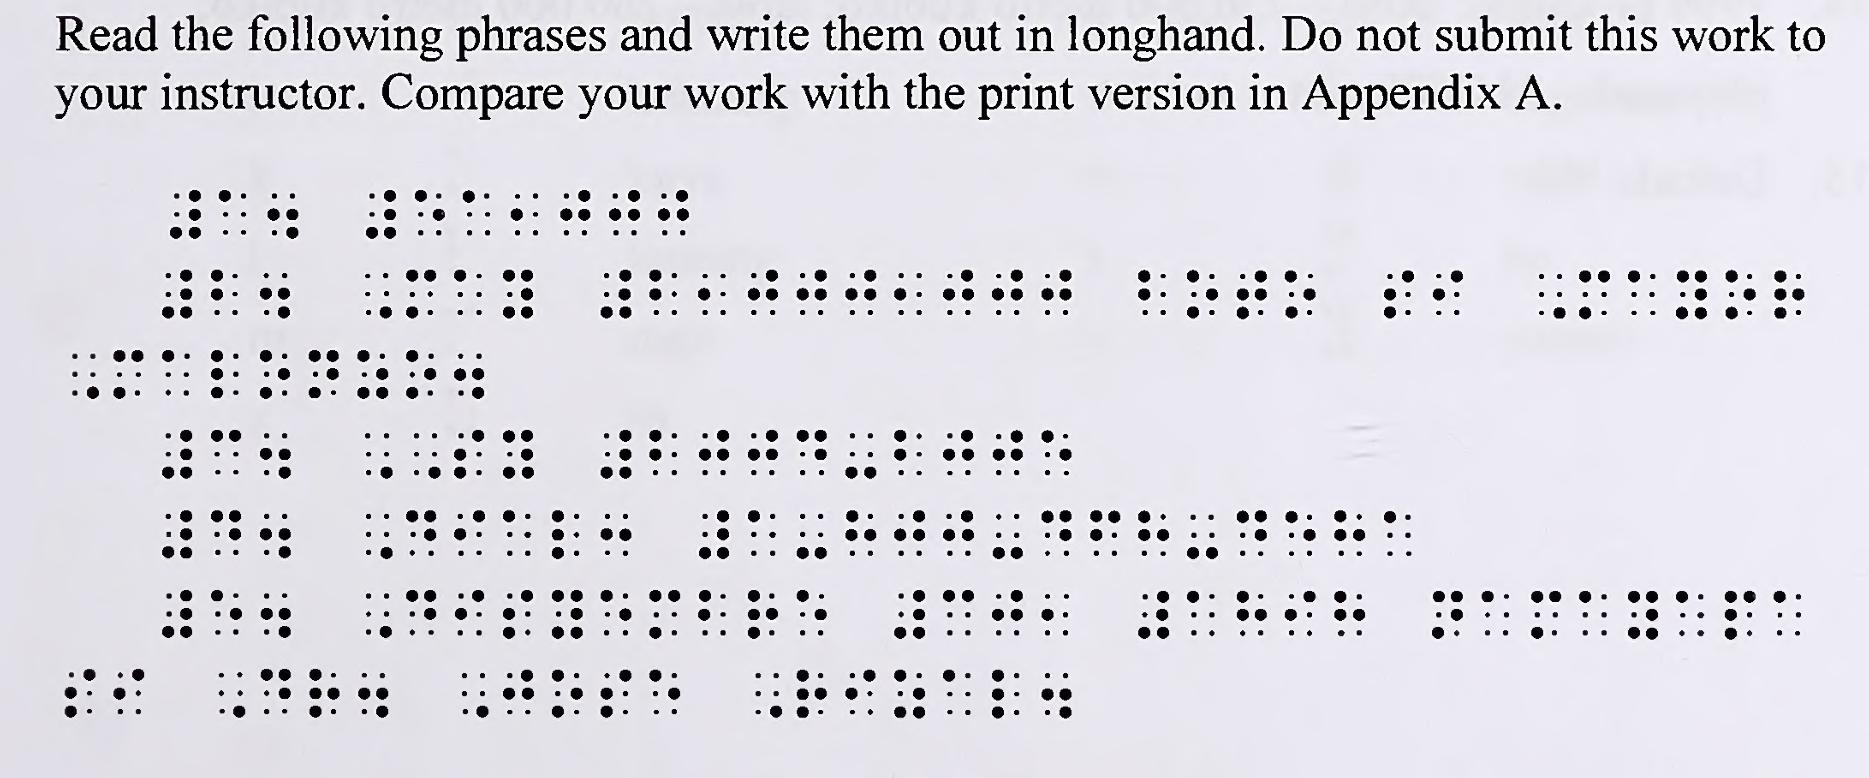capital_sign: (362, 268, 395, 322), (362, 511, 393, 562), (364, 429, 392, 480), (412, 431, 442, 480), (70, 349, 99, 399), (460, 673, 490, 720), (1539, 270, 1565, 322), (752, 671, 781, 717), (219, 671, 247, 717), (366, 590, 392, 637)
digit_0: (988, 266, 1026, 320), (991, 428, 1025, 481), (844, 264, 878, 316), (796, 268, 828, 322), (608, 188, 641, 239), (1038, 270, 1074, 318), (991, 589, 1024, 639), (942, 429, 975, 478), (893, 509, 926, 558), (657, 187, 688, 238), (943, 509, 974, 560), (746, 268, 780, 315), (560, 188, 591, 237), (747, 430, 778, 478), (1187, 590, 1217, 639), (944, 268, 974, 316), (700, 429, 729, 477)
digit_1: (217, 189, 250, 245), (746, 508, 778, 558), (1384, 508, 1414, 559), (464, 188, 493, 237)
digit_2: (210, 264, 240, 318), (648, 270, 679, 322), (647, 429, 679, 474), (894, 430, 923, 479)
digit_3: (210, 428, 244, 478), (943, 590, 975, 639)
digit_4: (1041, 506, 1073, 561), (795, 429, 826, 481), (1236, 506, 1268, 556), (212, 508, 241, 559)
digit_5: (209, 589, 243, 636), (1041, 429, 1074, 478), (415, 187, 445, 239), (1285, 511, 1318, 558)
digit_6: (1088, 509, 1120, 558)
digit_8: (1137, 508, 1171, 559), (1333, 589, 1366, 637), (844, 510, 877, 558), (1236, 590, 1267, 639), (1335, 509, 1365, 556)
digit_9: (1284, 590, 1318, 637)
letter_D: (404, 508, 437, 559), (403, 589, 436, 637), (260, 667, 290, 717)
letter_J: (502, 668, 533, 717)
letter_M: (404, 264, 436, 322), (1581, 270, 1610, 322), (113, 350, 144, 399)
letter_R: (795, 668, 827, 717)
letter_S: (451, 429, 485, 479)
letter_a: (1675, 587, 1709, 640), (1581, 589, 1613, 637), (452, 266, 482, 318), (1774, 587, 1803, 639), (1627, 269, 1658, 318), (942, 670, 973, 717), (1483, 590, 1513, 639), (162, 349, 191, 399), (504, 511, 533, 555)
letter_b: (1136, 270, 1174, 320), (697, 589, 728, 636)
letter_e: (795, 586, 827, 639), (601, 587, 631, 639), (650, 667, 681, 716)
letter_i: (453, 509, 488, 558), (113, 667, 144, 718), (1433, 269, 1464, 318), (454, 590, 485, 639), (845, 668, 876, 717)
letter_l: (549, 511, 582, 561), (210, 349, 238, 404), (991, 670, 1022, 717)
letter_m: (1529, 587, 1563, 639), (647, 590, 679, 641)
letter_n: (305, 348, 341, 402), (1433, 590, 1463, 640)
letter_o: (404, 347, 439, 400), (1188, 268, 1221, 318), (1724, 270, 1756, 320), (549, 668, 582, 718), (256, 350, 288, 399), (1284, 266, 1314, 318)
letter_p: (1721, 587, 1758, 641)
letter_r: (746, 586, 780, 639), (1774, 268, 1805, 322), (309, 668, 341, 717)
letter_s: (62, 666, 100, 720), (502, 590, 534, 637), (600, 671, 632, 718), (1384, 269, 1415, 318)
letter_t: (1234, 269, 1268, 320)
letter_y: (499, 264, 538, 318), (549, 587, 584, 640), (1674, 269, 1708, 320), (501, 428, 533, 480), (1628, 591, 1657, 637)
letter_z: (354, 349, 390, 403), (893, 668, 925, 717)
number_sign: (362, 187, 403, 243), (168, 189, 205, 243), (600, 268, 637, 318), (697, 508, 731, 561), (160, 431, 194, 480), (1138, 590, 1171, 641), (600, 430, 632, 479), (160, 589, 192, 637), (162, 509, 192, 561), (162, 268, 193, 318), (894, 590, 926, 637)
